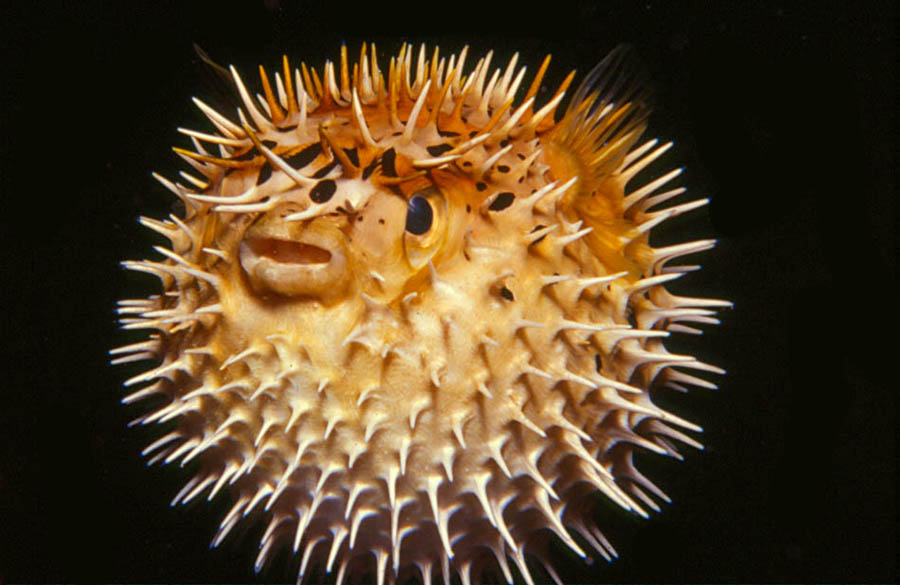Diodon_holocanthus: (77, 17, 766, 585)
